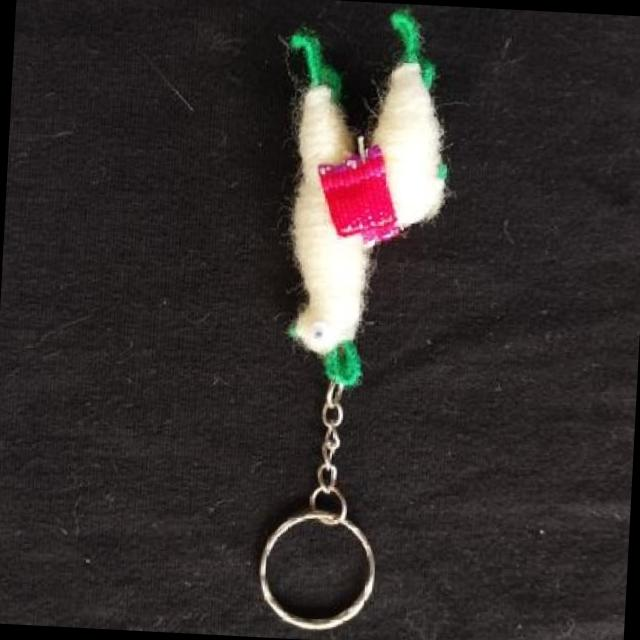Llavero: (268, 2, 460, 392)
